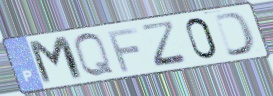0: (184, 16, 220, 61)
D: (212, 10, 258, 59)
F: (105, 25, 141, 73)
M: (25, 34, 88, 88)
Q: (72, 31, 118, 80)
Z: (138, 19, 191, 70)
